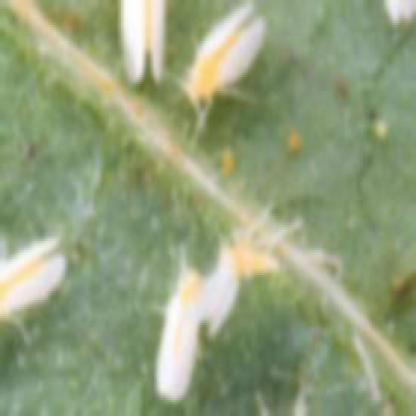whitefly: (184, 5, 265, 100), (156, 267, 201, 403)
